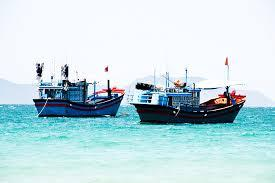Ship: (132, 85, 247, 124), (34, 74, 126, 118)
